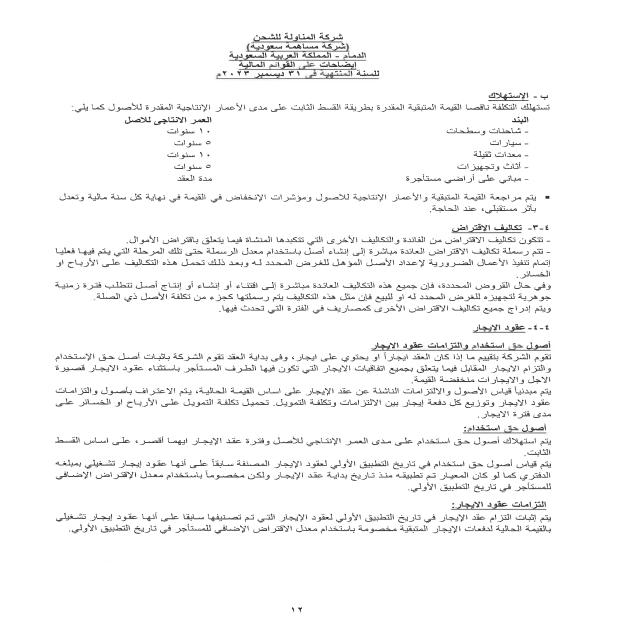notes: (235, 62, 364, 70)
text: (28, 90, 560, 554)
